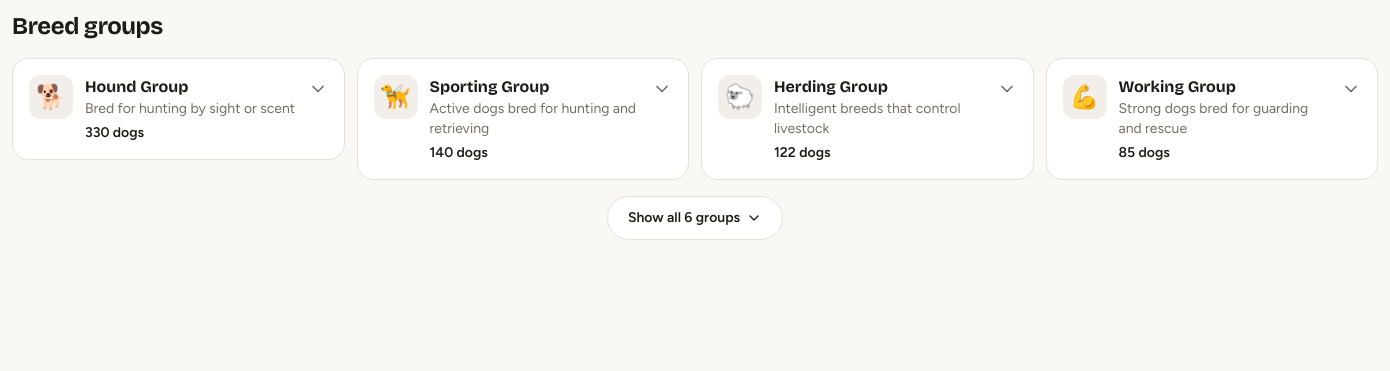
Test: BreedGroupsSection › collapses groups when Show Less clicked
The width and height of the screenshot is (1390, 371).
Click the button "Show all 6 groups": (695, 218) [607,196,783,240]
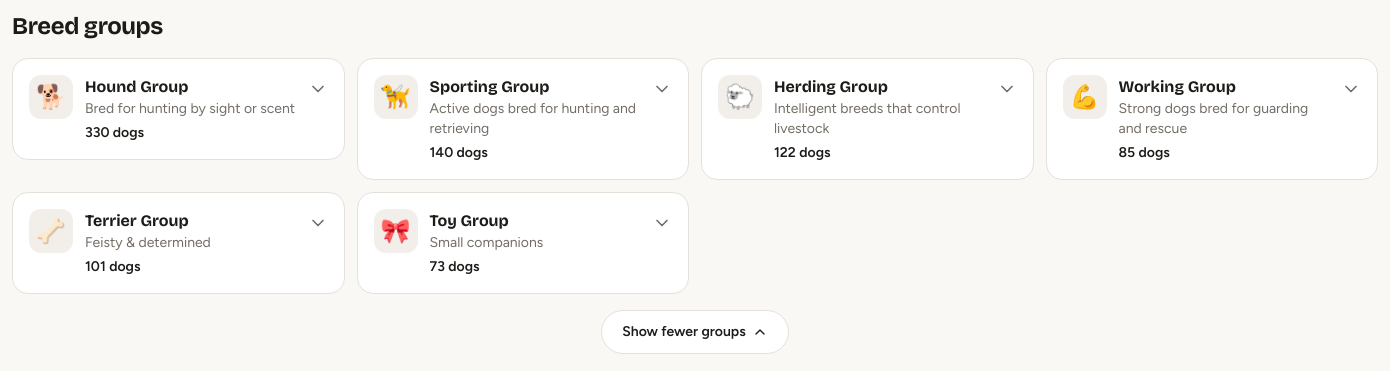
# Then collapse
Click the button "Show fewer groups": (695, 332) [601,310,789,354]
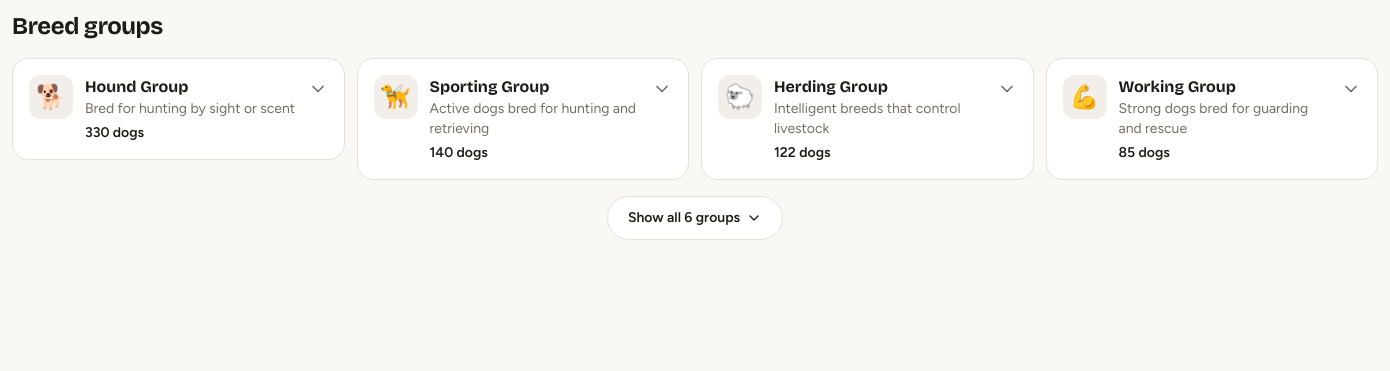
Check: the button "Terrier Group" is gone
Check: the button "Toy Group" is gone
